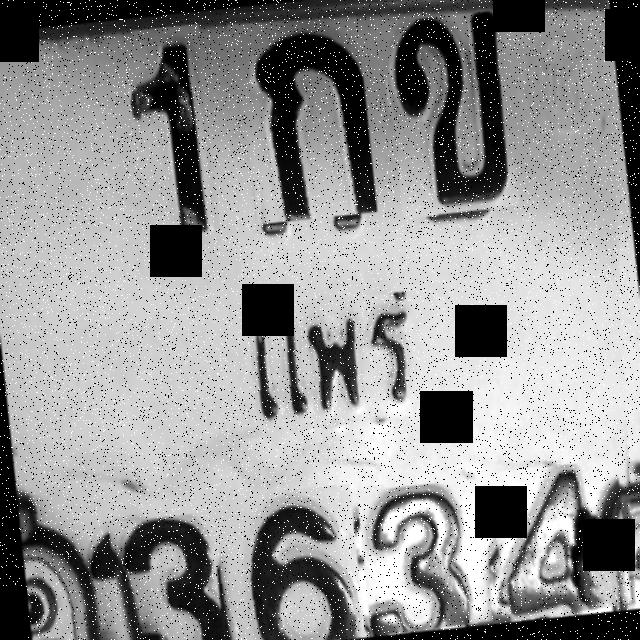letters: (227, 11, 377, 226), (381, 10, 519, 219), (207, 483, 365, 640), (485, 459, 632, 623), (356, 478, 499, 636), (131, 23, 220, 237), (107, 511, 225, 640)
license-plate: (0, 0, 640, 640)
province: (195, 285, 475, 444)
